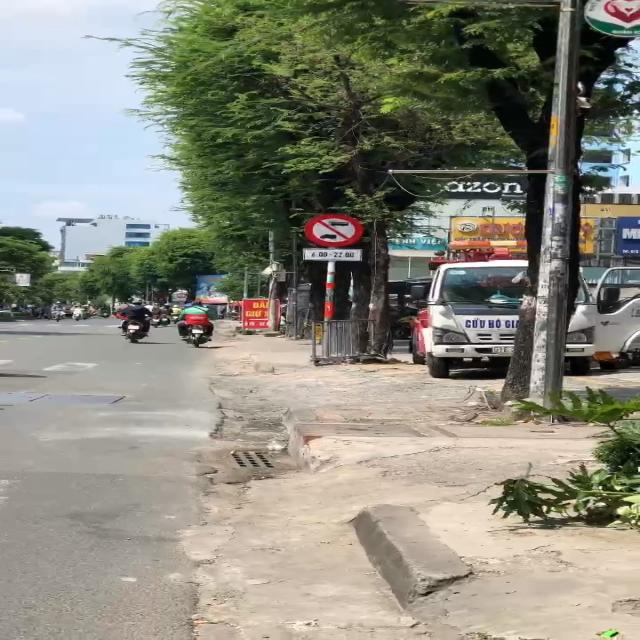Bien bao cam xe oto khach va xe oto tai: (304, 208, 368, 246)
